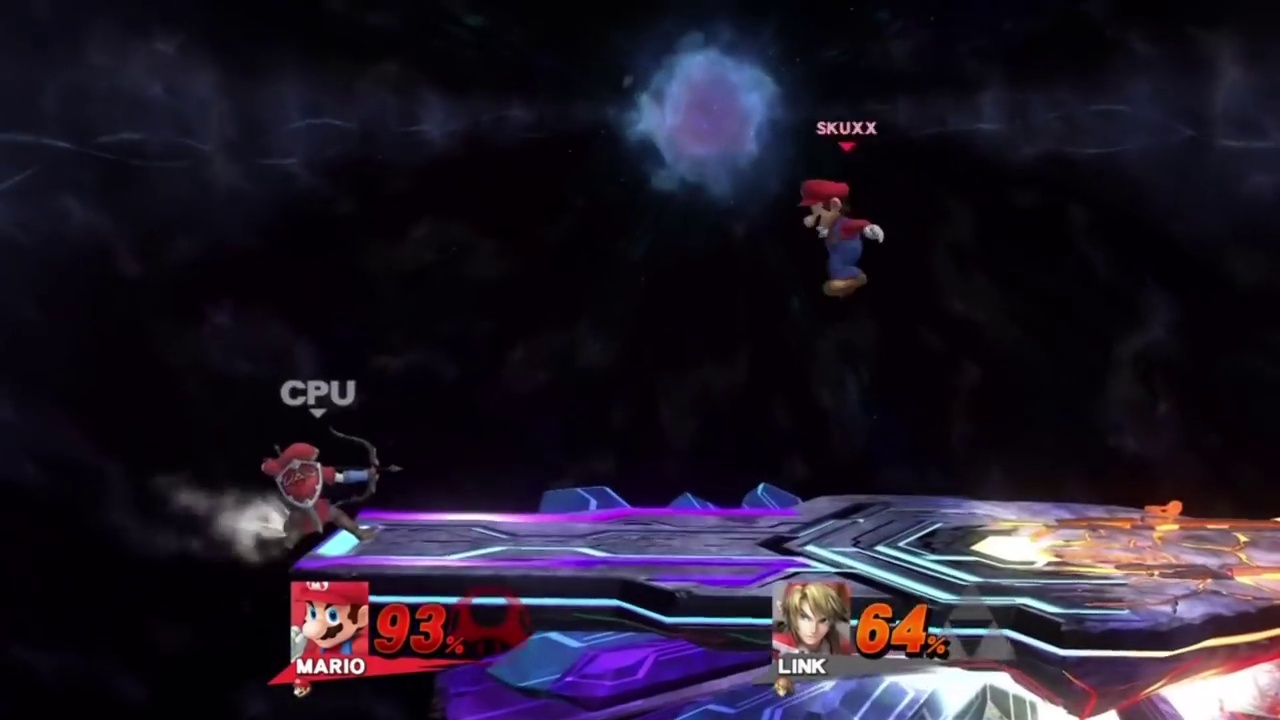Mario: (796, 179, 888, 293)
